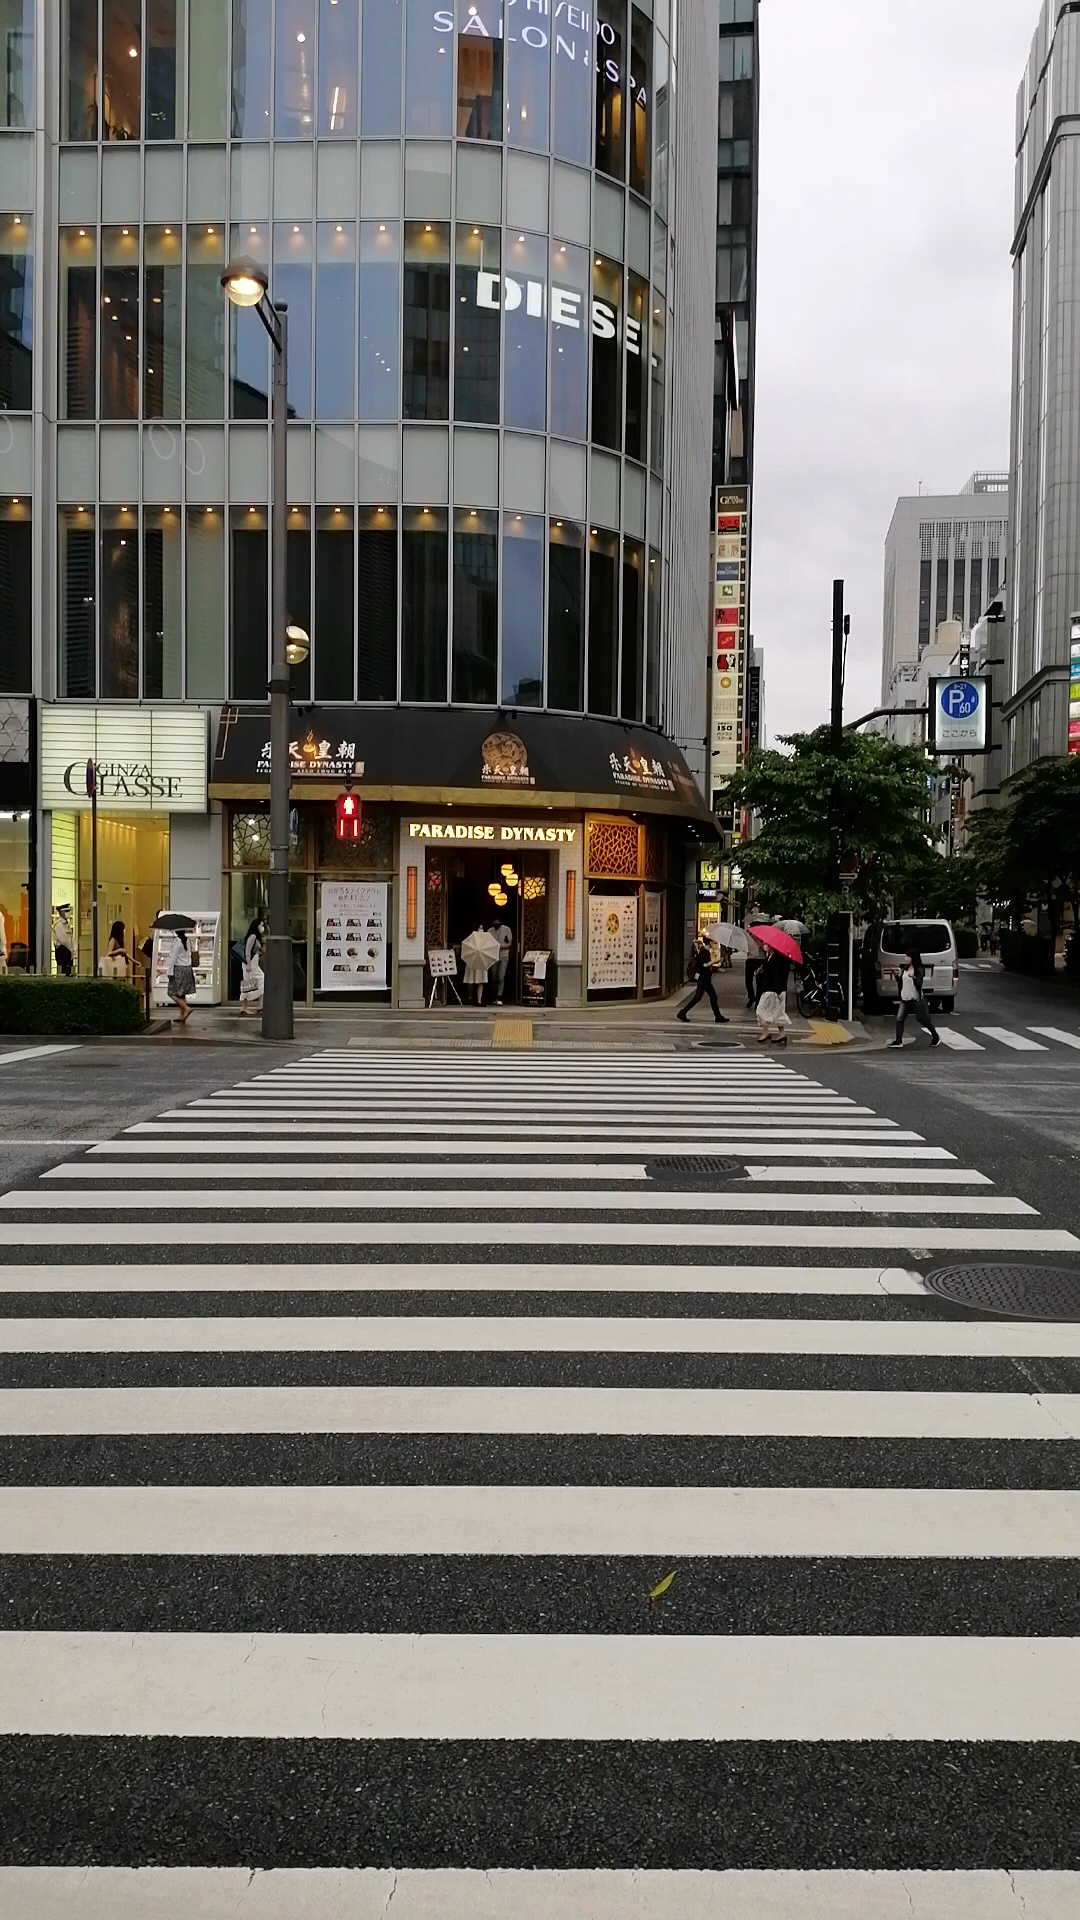red: (334, 791, 363, 845)
